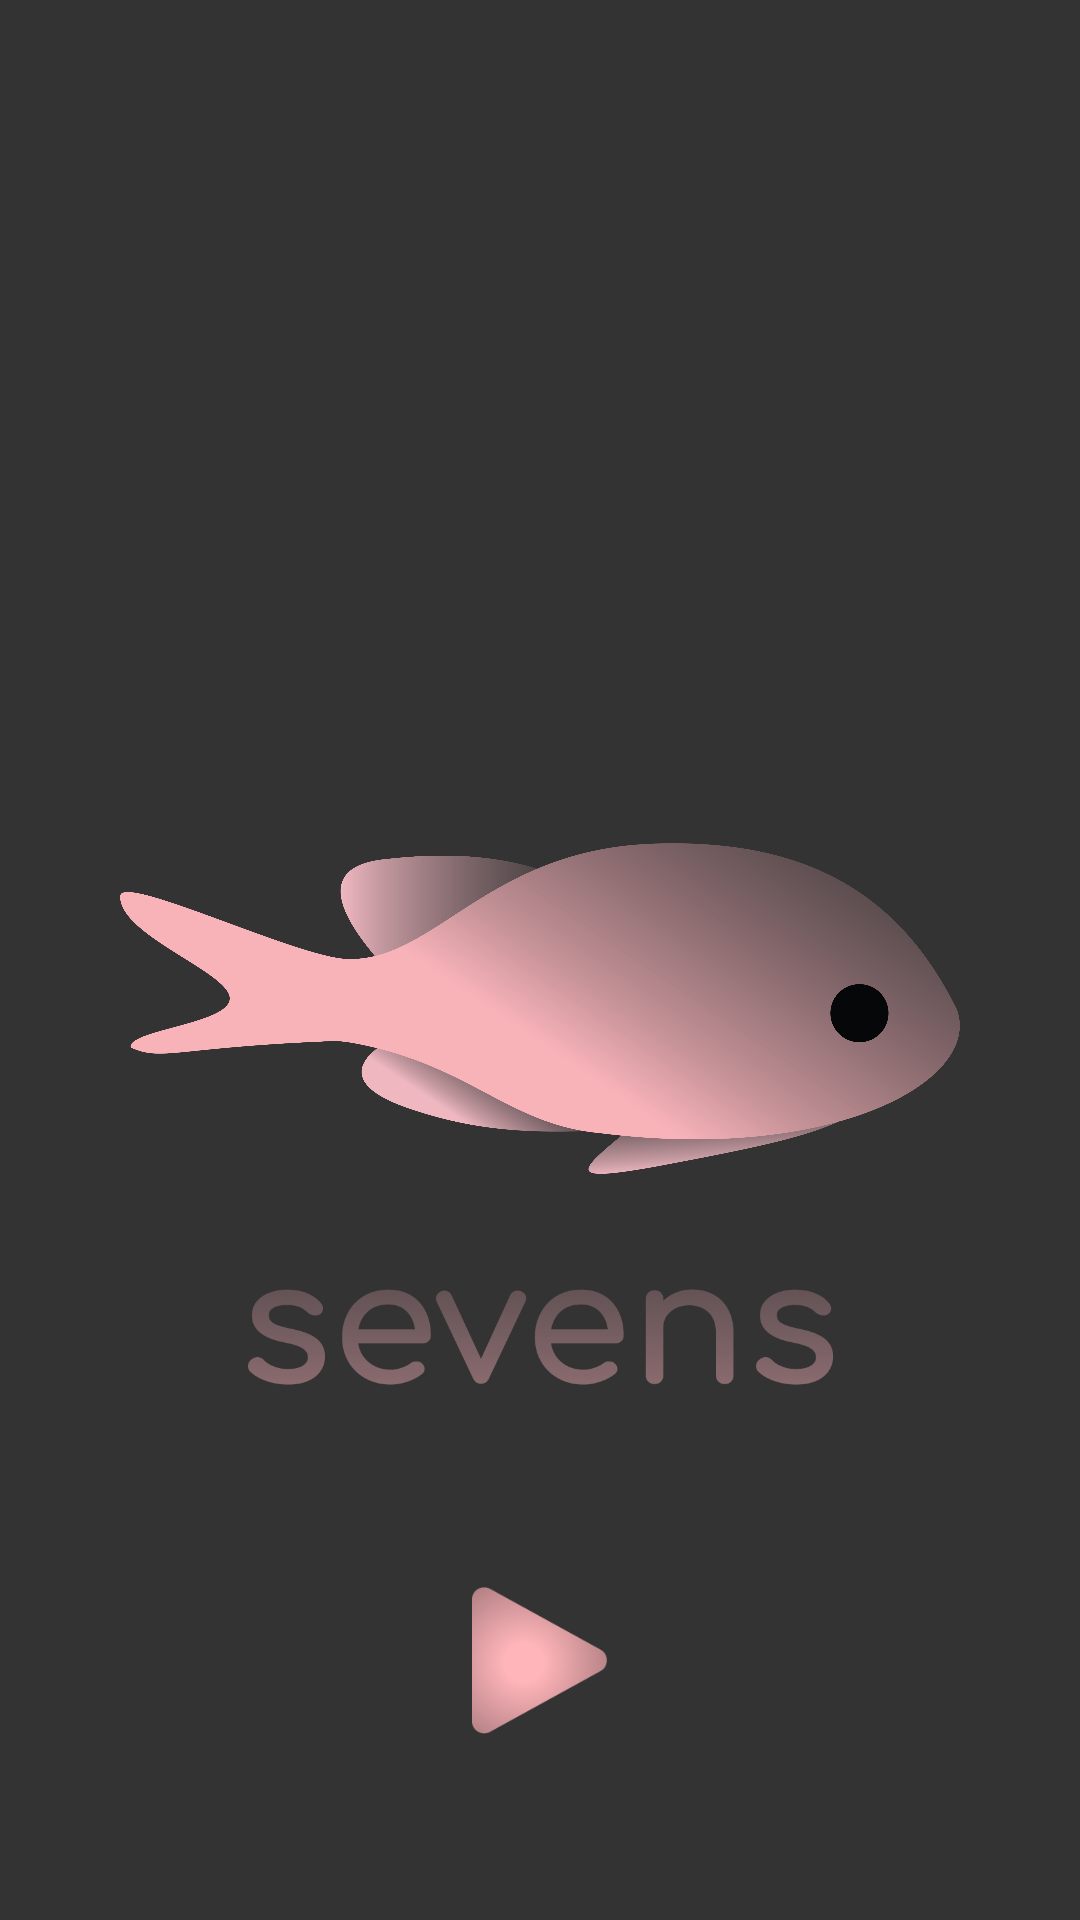

Named icons in this screenshot (1080*1920) and their centers, [x,y]:
mainpage play: [539,1660]
